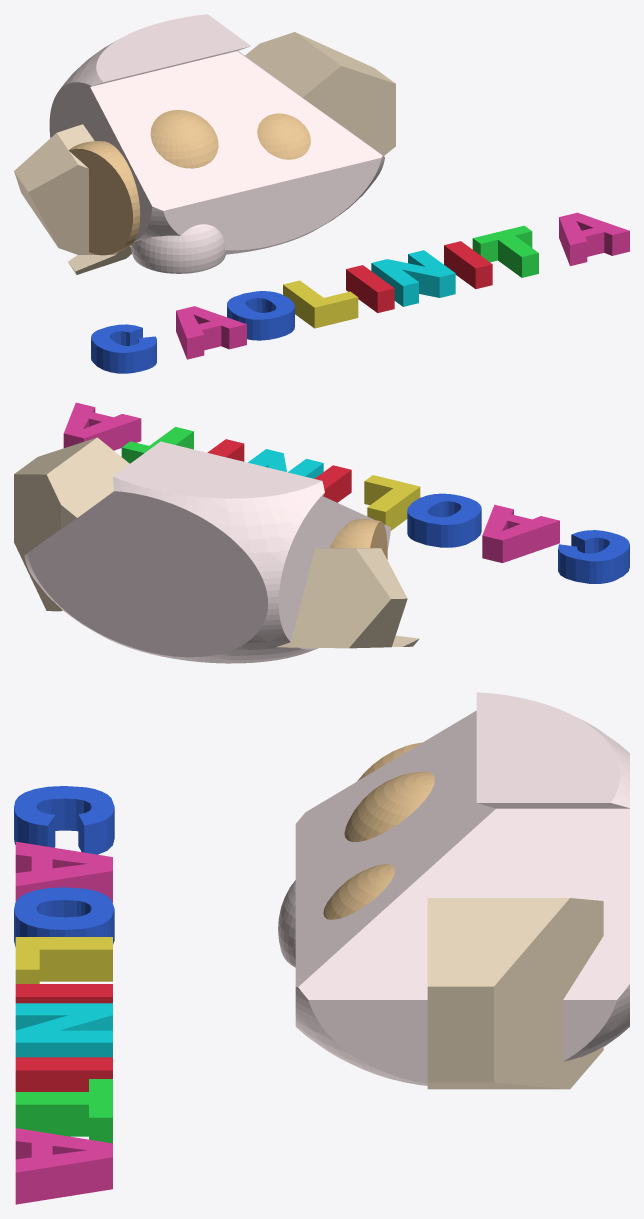
The model's file is asset.glb.
3 renders of one model, top to bottom at view 1: azimuth 30°, elevation 25°; view 2: azimuth 150°, elevation 25°; view 3: azimuth 270°, elevation 25°, orthographic. The views are drawn at different scales.
Parts seen in each view (by area): view 1: obj_9; view 2: obj_9; view 3: obj_9.
Boxes of the visible parts, bbox=[...] form: obj_9: bbox=[14, 14, 629, 373]; obj_9: bbox=[14, 402, 629, 663]; obj_9: bbox=[14, 692, 629, 1204].
Size of the model in its own units: 104 by 31.68 by 70.
